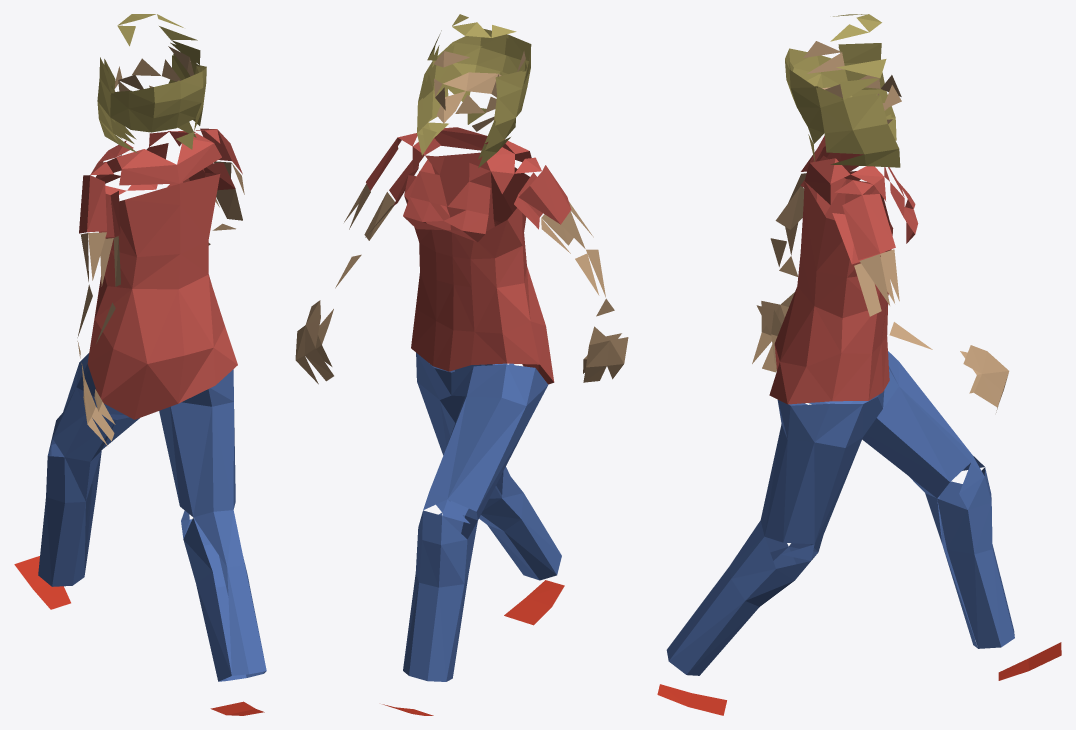
File: personfar_6_w1.fbx
The picture shows the model from 3 angles, left to right: view 1: azimuth 30°, elevation 25°; view 2: azimuth 150°, elevation 25°; view 3: azimuth 270°, elevation 25°; orthographic projection. The views are drawn at different scales.
Visible parts, largest first — view 1: Woman; view 2: Woman; view 3: Woman.
Boxes of the visible parts, x1=… form: Woman: x1=14, y1=14, x2=266, y2=715; Woman: x1=295, y1=14, x2=628, y2=715; Woman: x1=657, y1=14, x2=1061, y2=715.
Size of the model in its own units: 0.37 by 1 by 0.5387.
